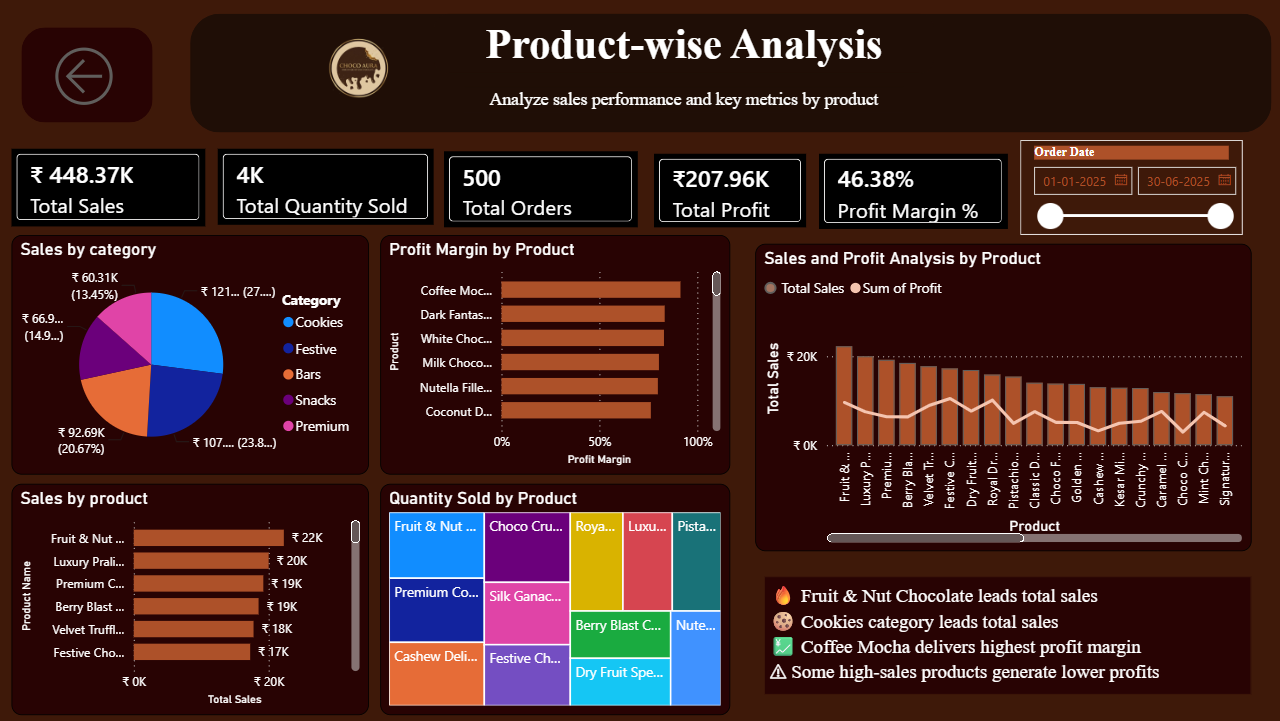

The dashboard page shown, as its layout file describes it:
{"tool":"powerbi","page":{"name":"Product-wise anaysis","canvas":[1280,720],"ordinal":2},"visuals":[{"type":"shape","box":[201.8,23.2,1057.8,116.2],"z":0},{"type":"image","box":[304.5,23.2,124.7,106.4],"z":1000},{"type":"shape","box":[440.2,23.2,489.1,58.7],"z":2000},{"type":"shape","box":[469.6,94.2,430.4,25.7],"z":3000},{"type":"cardVisual","fields":{"Data":["Sum(Sales_Data.Total_Sales)"]},"box":[26.9,155.3,189.5,75.8],"z":4000},{"type":"cardVisual","fields":{"Data":["Sales_Data.Total Quantity Sold"]},"box":[228.7,155.3,211.6,74.6],"z":5000},{"type":"cardVisual","fields":{"Data":["Sales_Data.Total Orders"]},"box":[450,157.7,189.5,74.6],"z":6000},{"type":"cardVisual","fields":{"Data":["Sales_Data.Total Profit"]},"box":[655.4,160.2,149.2,72.1],"z":7000},{"type":"pieChart","title":"Sales by category","fields":{"Category":["Sales_Data.Category"],"Y":["Sum(Sales_Data.Total_Sales)"]},"box":[26.9,239.7,349.7,234.8],"z":8000},{"type":"barChart","title":"Sales by product","fields":{"Category":["Sales_Data.Product_Name"],"Y":["Sum(Sales_Data.Total_Sales)"]},"box":[26.9,483,349.7,226.2],"z":9000},{"type":"lineClusteredColumnComboChart","title":"Sales and Profit Analysis by Product","fields":{"Y2":["Sum(Sales_Data.Profit)"],"Y":["Sum(Sales_Data.Total_Sales)"],"Category":["Sales_Data.Product_Name"]},"box":[754.5,248.2,485.5,300.8],"z":10000},{"type":"treemap","title":" Quantity Sold by Product ","fields":{"Values":["Sum(Sales_Data.Quantity_Sold)"],"Group":["Sales_Data.Product_Name"]},"box":[387.6,483,342.4,226.2],"z":11000},{"type":"cardVisual","fields":{"Data":["Sales_Data.Profit Margin %"]},"box":[816.9,160.2,184.6,73.4],"z":12000},{"type":"clusteredBarChart","fields":{"Y":["Sales_Data.Profit Margin"],"Category":["Sales_Data.Product_Name"]},"box":[387.6,239.7,342.4,234.8],"z":13000},{"type":"slicer","fields":{"Values":["Sales_Data.Order_Date"]},"box":[1013.7,146.7,217.7,92.9],"z":14000},{"type":"textbox","box":[763,573.5,476.9,116.2],"z":15000},{"type":"shape","box":[36.7,36.7,128.4,92.9],"z":16000},{"type":"actionButton","box":[62.4,48.9,78.3,70.9],"z":17000}]}

Visuals, with their boxes in screenshot pixels (x1, y1, x2, y2), scaled from the page's 1280x720 canvas onto the 1280x721 screenshot:
shape: 202 23 1260 140
image: 304 23 429 130
shape: 440 23 929 82
shape: 470 94 900 120
cardVisual - Sum(Sales_Data.Total_Sales): 27 156 216 231
cardVisual - Sales_Data.Total Quantity Sold: 229 156 440 230
cardVisual - Sales_Data.Total Orders: 450 158 640 233
cardVisual - Sales_Data.Total Profit: 655 160 805 233
"Sales by category" pieChart: 27 240 377 475
"Sales by product" barChart: 27 484 377 710
"Sales and Profit Analysis by Product" lineClusteredColumnComboChart: 754 249 1240 550
" Quantity Sold by Product " treemap: 388 484 730 710
cardVisual - Sales_Data.Profit Margin %: 817 160 1002 234
clusteredBarChart - Sales_Data.Profit Margin x Sales_Data.Product_Name: 388 240 730 475
slicer - Sales_Data.Order_Date: 1014 147 1231 240
textbox: 763 574 1240 691
shape: 37 37 165 130
actionButton: 62 49 141 120
